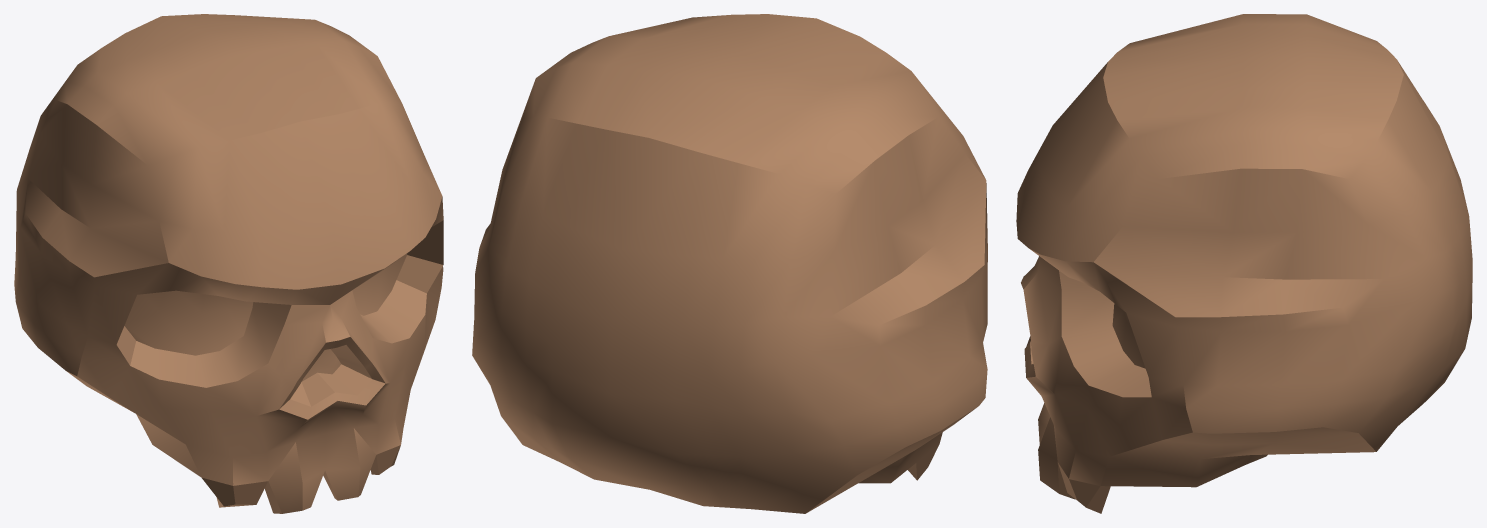
Rendered from skull.glb.
3 views of the same model, side by side, from view 1: azimuth 30°, elevation 25°; view 2: azimuth 150°, elevation 25°; view 3: azimuth 270°, elevation 25° (orthographic). The views are drawn at different scales.
Parts seen in each view (by area): view 1: Prop_Skull; view 2: Prop_Skull; view 3: Prop_Skull.
Boxes of the visible parts, left/top/right/bottom form: Prop_Skull: left=14, top=14, right=443, bottom=513; Prop_Skull: left=472, top=14, right=987, bottom=513; Prop_Skull: left=1016, top=14, right=1472, bottom=513.
Bounding box in the file's own units: 0.4838 × 0.4846 × 0.4762.
